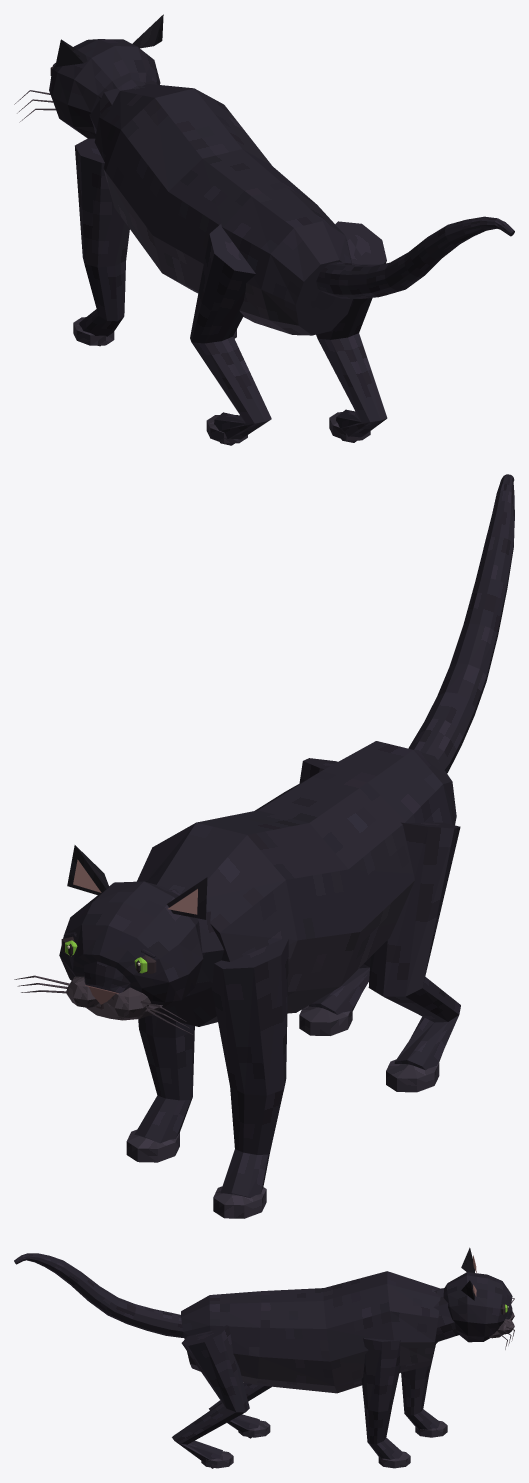
The model's file is mon_cat_black.glb.
3 views of the same model, one above another, from view 1: azimuth 30°, elevation 25°; view 2: azimuth 150°, elevation 25°; view 3: azimuth 270°, elevation 25° (orthographic). The views are drawn at different scales.
Parts seen in each view (by area): view 1: closed_body; view 2: closed_body; view 3: closed_body.
Part boxes in pixels (x1=…): closed_body: x1=14, y1=14, x2=514, y2=445; closed_body: x1=14, y1=474, x2=514, y2=1218; closed_body: x1=14, y1=1247, x2=514, y2=1468.
Size of the model in its own units: 0.1758 by 0.3903 by 0.821.
1 material, 1 textured.
